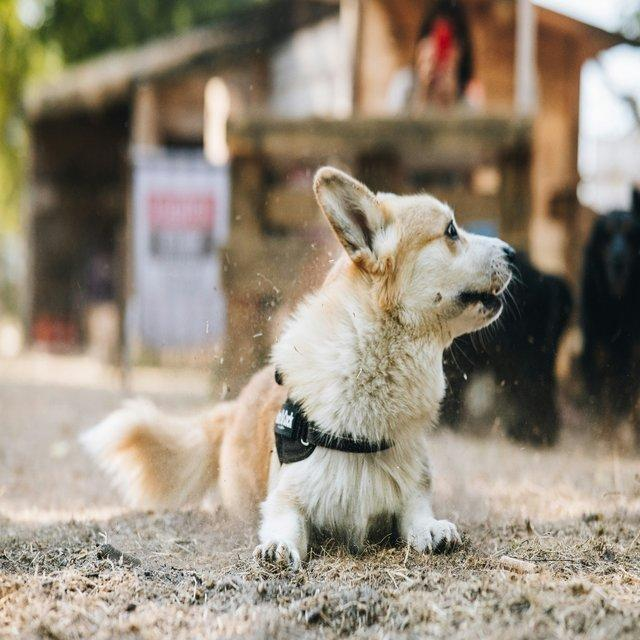corgi: (78, 164, 520, 570)
